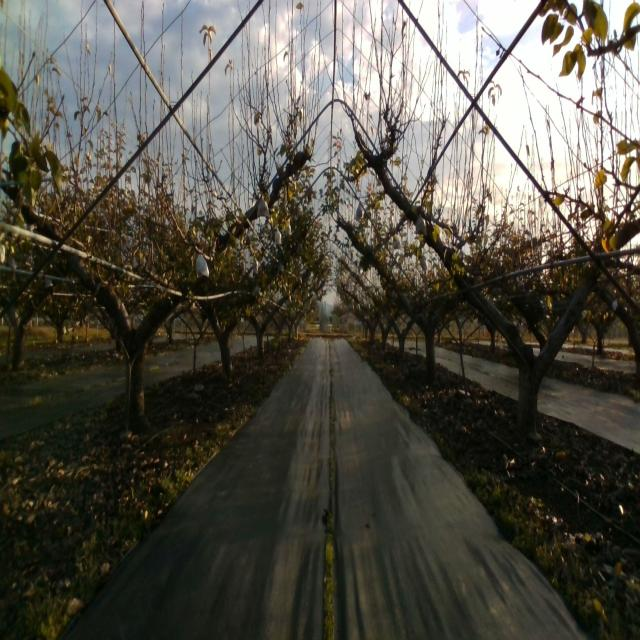pearbags: (196, 254, 209, 278), (257, 194, 270, 218), (414, 214, 427, 236)
